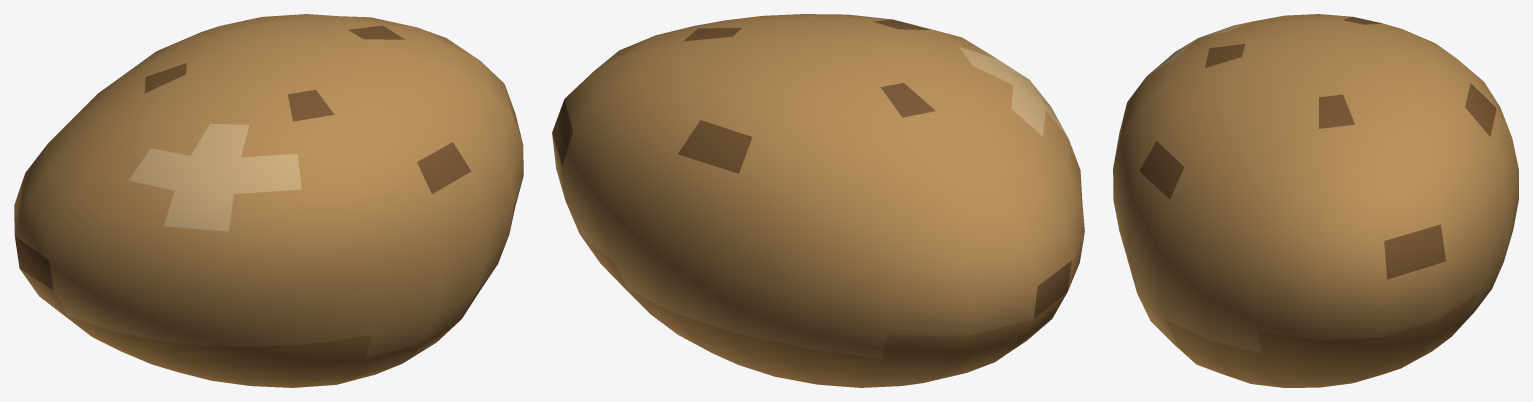
The model's file is Potato.glb.
3 renders of one model, left to right at view 1: azimuth 30°, elevation 25°; view 2: azimuth 150°, elevation 25°; view 3: azimuth 270°, elevation 25°, orthographic. The views are drawn at different scales.
Parts seen in each view (by area): view 1: Potato; view 2: Potato; view 3: Potato.
Part boxes in pixels (left/top/right/bottom): Potato: left=14, top=14, right=523, bottom=387; Potato: left=552, top=14, right=1084, bottom=387; Potato: left=1113, top=14, right=1518, bottom=387.
Size of the model in its own units: 0.6428 by 0.4043 by 0.484.
